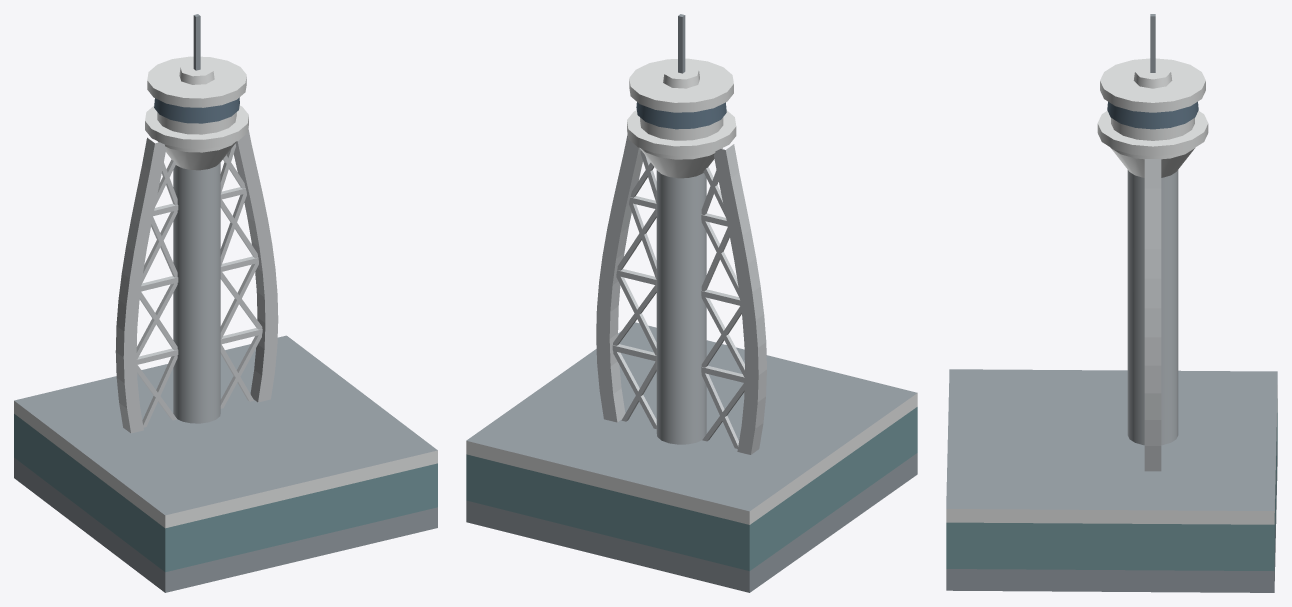
The model's file is dubai-dxb-control-tower.glb.
3 renders of one model, left to right at view 1: azimuth 30°, elevation 25°; view 2: azimuth 150°, elevation 25°; view 3: azimuth 270°, elevation 25°, orthographic. The views are drawn at different scales.
Visible parts, largest first — view 1: Dubai International Airport control tower; view 2: Dubai International Airport control tower; view 3: Dubai International Airport control tower.
Part boxes in pixels (left/top/right/bottom): Dubai International Airport control tower: left=14, top=14, right=437, bottom=592; Dubai International Airport control tower: left=466, top=14, right=917, bottom=592; Dubai International Airport control tower: left=946, top=14, right=1277, bottom=592.
Size of the model in its own units: 55.76 by 92 by 55.08.
